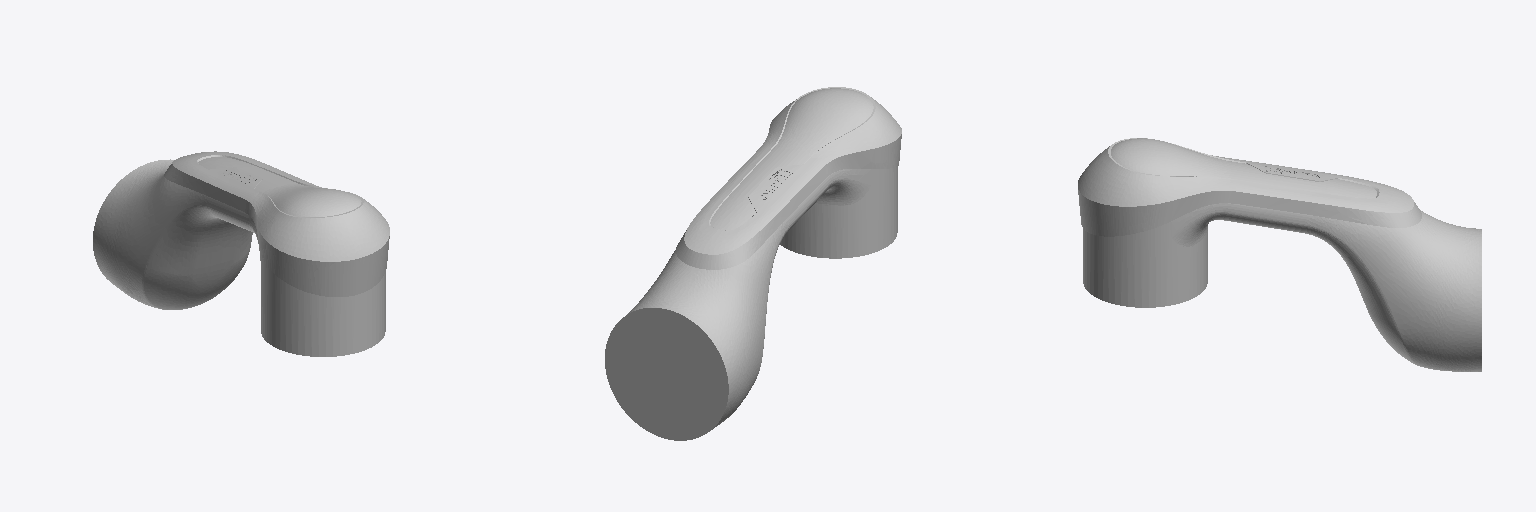
The picture shows the model from 3 angles: view 1: azimuth 30°, elevation 25°; view 2: azimuth 150°, elevation 25°; view 3: azimuth 270°, elevation 25°; orthographic projection.
Parts seen in each view (by area): view 1: Part__Feature_004-mesh, Shell001_004-mesh; view 2: Part__Feature_004-mesh, Shell001_004-mesh; view 3: Part__Feature_004-mesh, Shell001_004-mesh.
Part boxes in pixels (x1,y1,x2,y2): Part__Feature_004-mesh: (93,157,385,356); Shell001_004-mesh: (164,151,389,296); Part__Feature_004-mesh: (605,88,897,440); Shell001_004-mesh: (676,87,901,269); Part__Feature_004-mesh: (1083,138,1481,371); Shell001_004-mesh: (1078,138,1421,236).
Bounding box in the file's own units: 0.11 × 0.1849 × 0.3112.